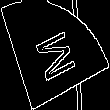M_W: (30, 24, 80, 86)
